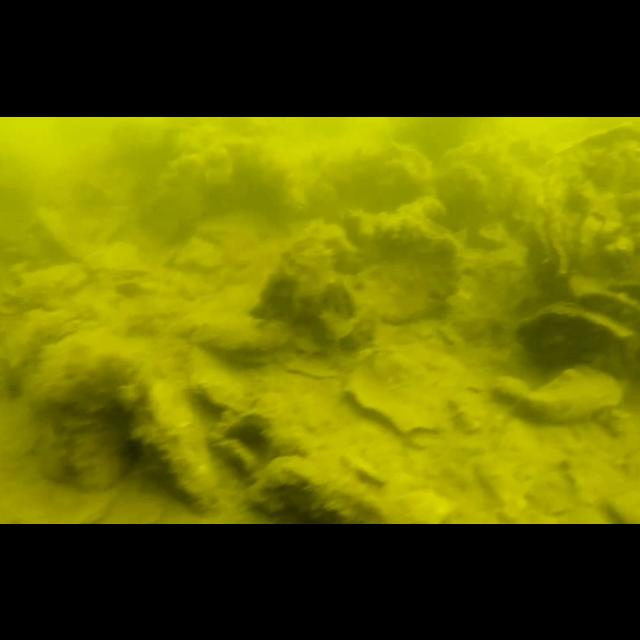Oyster-Closed: (249, 224, 377, 354), (27, 349, 142, 491), (542, 124, 640, 286), (118, 369, 222, 516), (340, 208, 460, 326), (237, 454, 385, 524), (514, 306, 628, 372), (514, 364, 628, 424), (566, 275, 640, 327), (8, 261, 88, 303)
Oyster-Open: (201, 324, 295, 372), (214, 408, 276, 469), (82, 239, 150, 285)
